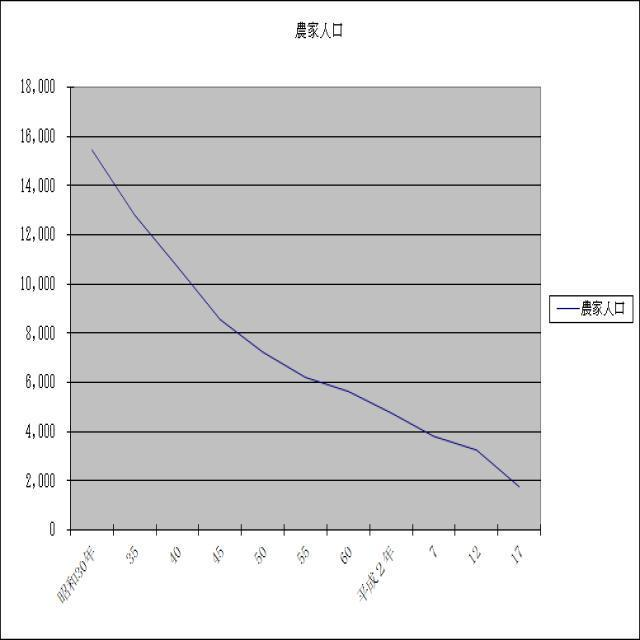axis: (61, 76, 77, 540), (64, 522, 550, 537)
line: (88, 145, 523, 492)
